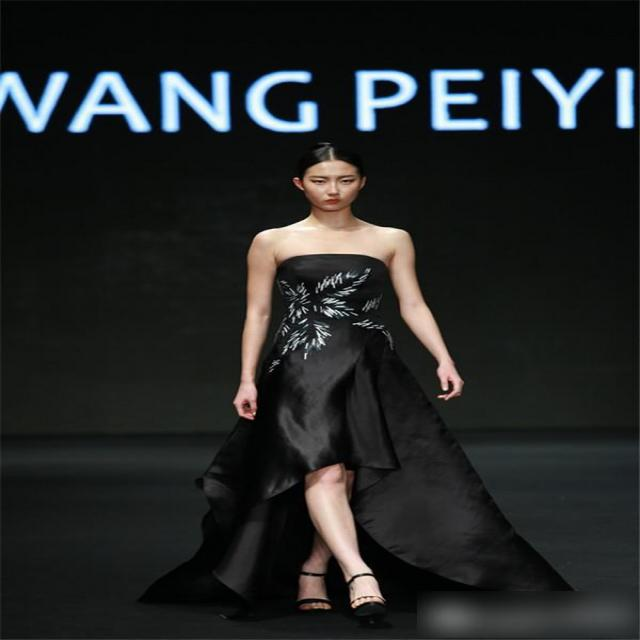Manusia: (188, 126, 490, 638)
